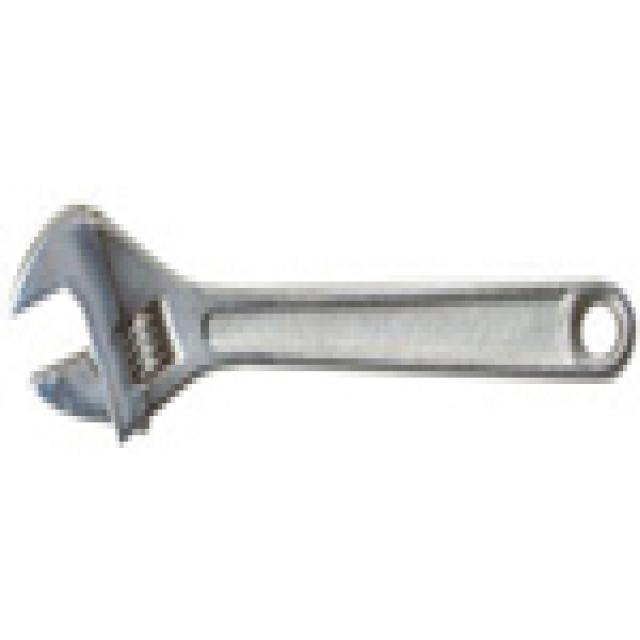wrench: (7, 132, 640, 472)
